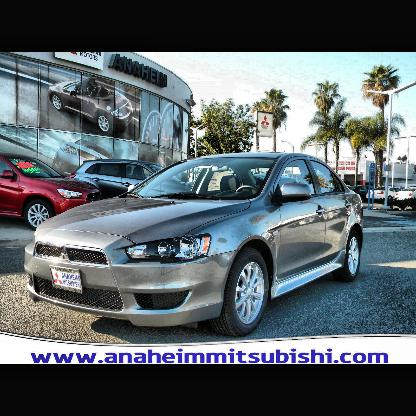Mitsubishi Lancer Sedan 2012: (26, 153, 365, 331)
